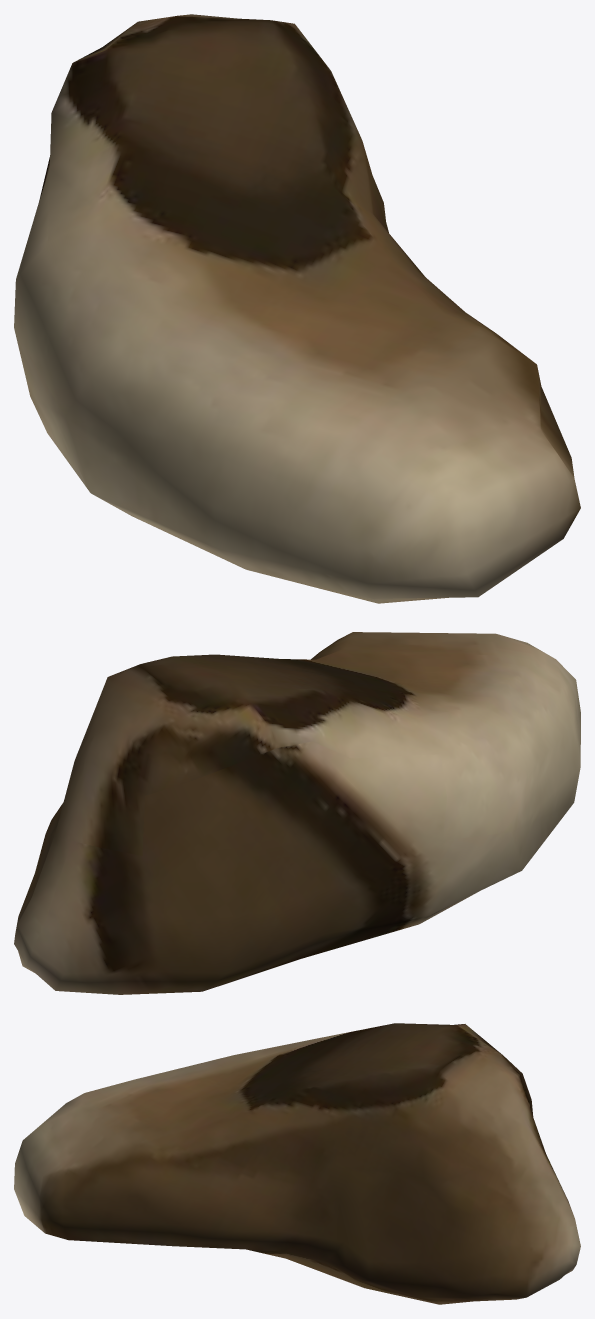
File: Tarsal_II.glb
3 renders of one model, top to bottom at view 1: azimuth 30°, elevation 25°; view 2: azimuth 150°, elevation 25°; view 3: azimuth 270°, elevation 25°, orthographic. The views are drawn at different scales.
Visible parts, largest first — view 1: Tarsal_II_Left1:Group16803; view 2: Tarsal_II_Left1:Group16803; view 3: Tarsal_II_Left1:Group16803.
Part boxes in pixels (left/top/right/bottom): Tarsal_II_Left1:Group16803: left=14, top=14, right=580, bottom=603; Tarsal_II_Left1:Group16803: left=14, top=632, right=580, bottom=994; Tarsal_II_Left1:Group16803: left=14, top=1023, right=580, bottom=1304.
Bounding box in the file's own units: 5.82 × 4.84 × 10.89.
Materials: 1 (1 with a texture image).
